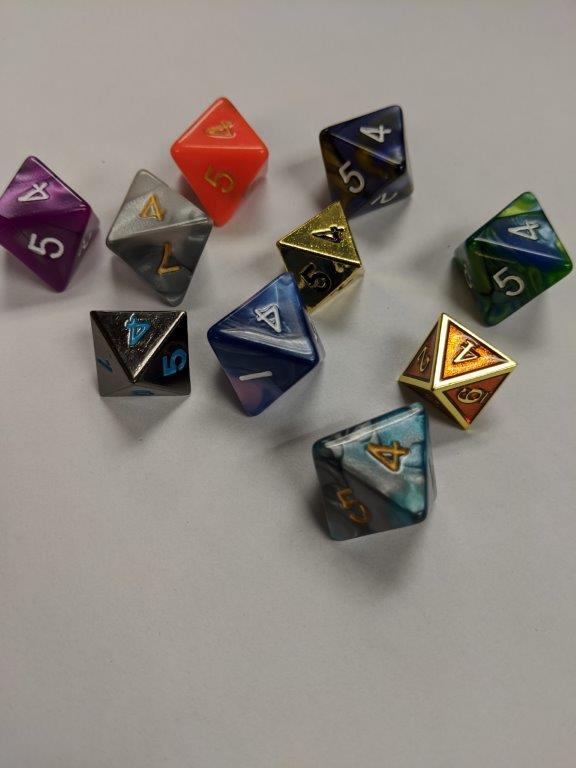d8-4: (313, 399, 442, 545), (455, 189, 574, 327), (205, 275, 323, 413), (397, 310, 514, 436), (105, 168, 211, 306), (1, 151, 100, 295), (173, 94, 272, 222), (311, 103, 418, 213), (270, 200, 358, 317), (89, 309, 191, 399)
